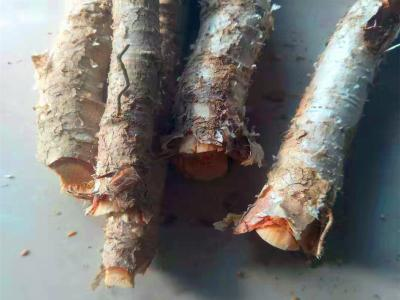Root: (32, 0, 274, 287), (214, 0, 400, 258)
